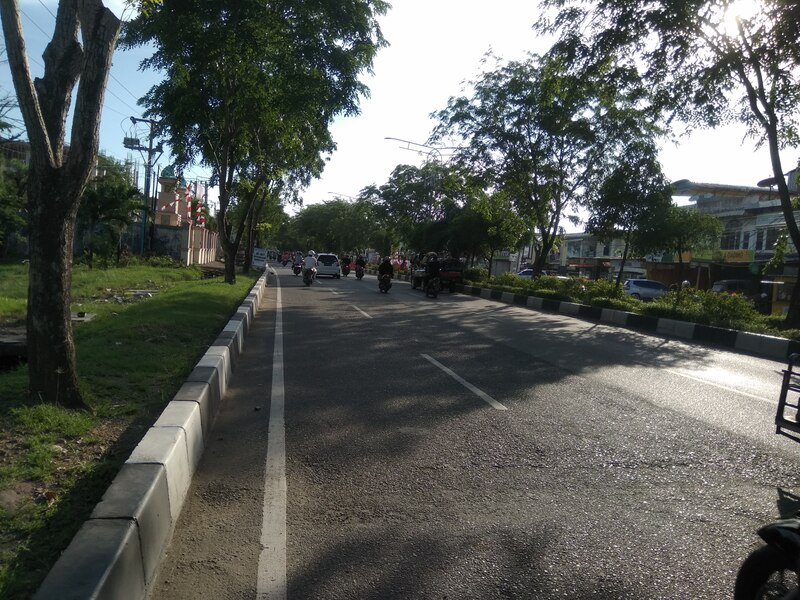car: (409, 257, 467, 294), (313, 253, 342, 281)
motorcycle: (376, 265, 396, 296), (301, 263, 319, 288)
